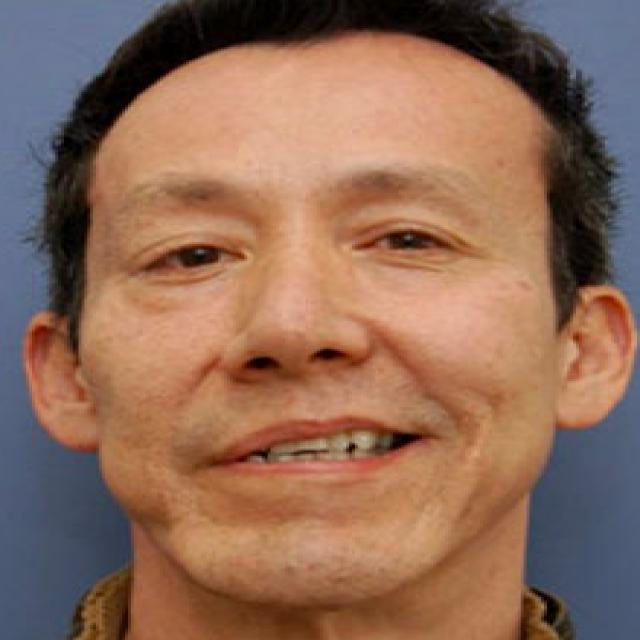stroke_face: (47, 72, 572, 576)
